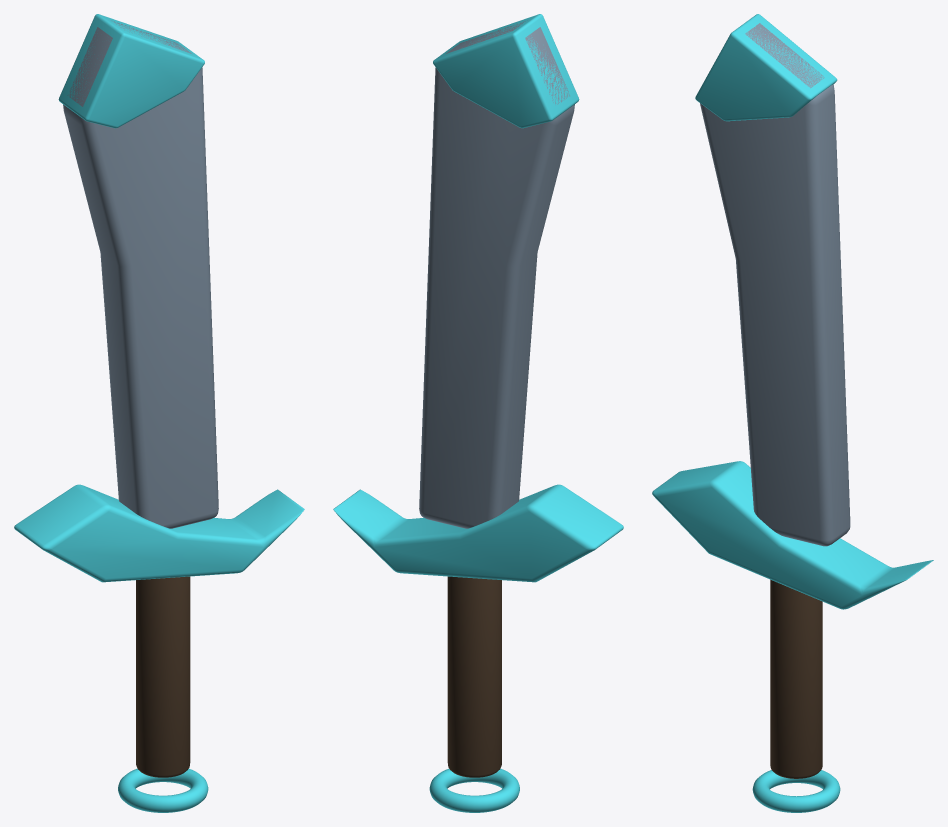
File: sword_v4.glb
3 views of the same model, side by side, from view 1: azimuth 30°, elevation 25°; view 2: azimuth 150°, elevation 25°; view 3: azimuth 330°, elevation 25° (orthographic). The views are drawn at different scales.
Visible parts, largest first — view 1: FALCHION_BLADE_PRIMARY, FALCHION_GUARD_ACCENT, GRIP_SECONDARY, FALCHION_EDGE_ACCENT, POMMEL_ACCENT; view 2: FALCHION_BLADE_PRIMARY, FALCHION_GUARD_ACCENT, GRIP_SECONDARY, FALCHION_EDGE_ACCENT, POMMEL_ACCENT; view 3: FALCHION_BLADE_PRIMARY, FALCHION_GUARD_ACCENT, GRIP_SECONDARY, FALCHION_EDGE_ACCENT, POMMEL_ACCENT.
Part boxes in pixels (x1,y1,x2,y2): FALCHION_BLADE_PRIMARY: [63, 20, 218, 528]; FALCHION_GUARD_ACCENT: [14, 484, 304, 582]; GRIP_SECONDARY: [136, 576, 190, 777]; FALCHION_EDGE_ACCENT: [58, 14, 204, 128]; POMMEL_ACCENT: [118, 768, 208, 812]; FALCHION_BLADE_PRIMARY: [419, 20, 574, 528]; FALCHION_GUARD_ACCENT: [333, 484, 623, 582]; GRIP_SECONDARY: [447, 576, 501, 777]; FALCHION_EDGE_ACCENT: [433, 14, 579, 128]; POMMEL_ACCENT: [429, 768, 519, 812]; FALCHION_BLADE_PRIMARY: [700, 23, 850, 546]; FALCHION_GUARD_ACCENT: [652, 461, 933, 609]; GRIP_SECONDARY: [770, 579, 822, 778]; FALCHION_EDGE_ACCENT: [695, 14, 837, 121]; POMMEL_ACCENT: [752, 770, 840, 812].
Bounding box in the file's own units: 1.57 × 4.48 × 0.468.
